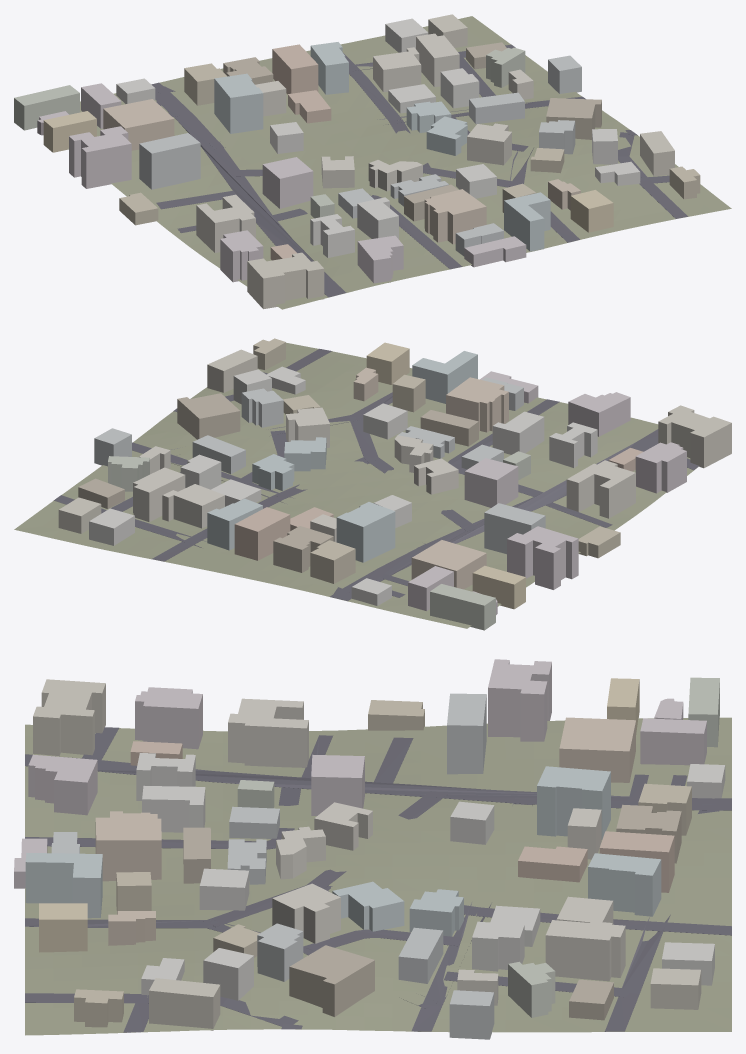
The model's file is chunk_0_5.glb.
3 renders of one model, top to bottom at view 1: azimuth 30°, elevation 25°; view 2: azimuth 150°, elevation 25°; view 3: azimuth 270°, elevation 25°, orthographic. The views are drawn at different scales.
Visible parts, largest first — view 1: geometry_60, geometry_66, geometry_7, geometry_6, geometry_13, geometry_42, geometry_20, geometry_49, geometry_54, geometry_35, geometry_3, geometry_32 (+53 smaller); view 2: geometry_60, geometry_6, geometry_7, geometry_3, geometry_42, geometry_66, geometry_20, geometry_34, geometry_54, geometry_32, geometry_5, geometry_25 (+51 smaller); view 3: geometry_60, geometry_3, geometry_7, geometry_6, geometry_66, geometry_34, geometry_39, geometry_35, geometry_49, geometry_42, geometry_20, geometry_44 (+57 smaller).
Boxes of the visible parts, <box> form: geometry_60: <box>68,16,731,309</box>; geometry_66: <box>151,82,346,297</box>; geometry_7: <box>247,252,324,309</box>; geometry_6: <box>69,126,131,188</box>; geometry_13: <box>139,133,200,189</box>; geometry_42: <box>214,73,263,133</box>; geometry_20: <box>424,189,486,244</box>; geometry_49: <box>103,99,174,150</box>; geometry_54: <box>262,157,313,208</box>; geometry_35: <box>504,192,550,251</box>; geometry_3: <box>196,194,255,252</box>; geometry_32: <box>14,85,79,130</box>; geometry_60: <box>14,342,698,628</box>; geometry_6: <box>507,526,578,589</box>; geometry_7: <box>658,405,731,468</box>; geometry_3: <box>566,460,635,518</box>; geometry_42: <box>336,502,395,562</box>; geometry_66: <box>330,429,658,601</box>; geometry_20: <box>446,377,508,432</box>; geometry_34: <box>177,393,240,439</box>; geometry_54: <box>464,458,518,507</box>; geometry_32: <box>430,584,495,630</box>; geometry_5: <box>635,442,686,493</box>; geometry_25: <box>234,507,290,560</box>; geometry_60: <box>25,717,731,1035</box>; geometry_3: <box>228,698,308,767</box>; geometry_7: <box>33,679,105,755</box>; geometry_6: <box>488,659,551,741</box>; geometry_66: <box>25,754,731,810</box>; geometry_34: <box>289,945,374,1016</box>; geometry_39: <box>545,920,625,981</box>; geometry_35: <box>25,852,102,918</box>; geometry_49: <box>559,717,635,782</box>; geometry_42: <box>537,766,610,839</box>; geometry_20: <box>95,811,161,881</box>; geometry_44: <box>588,853,661,916</box>.
Bounding box in the file's own units: 268 × 24.67 × 254.
